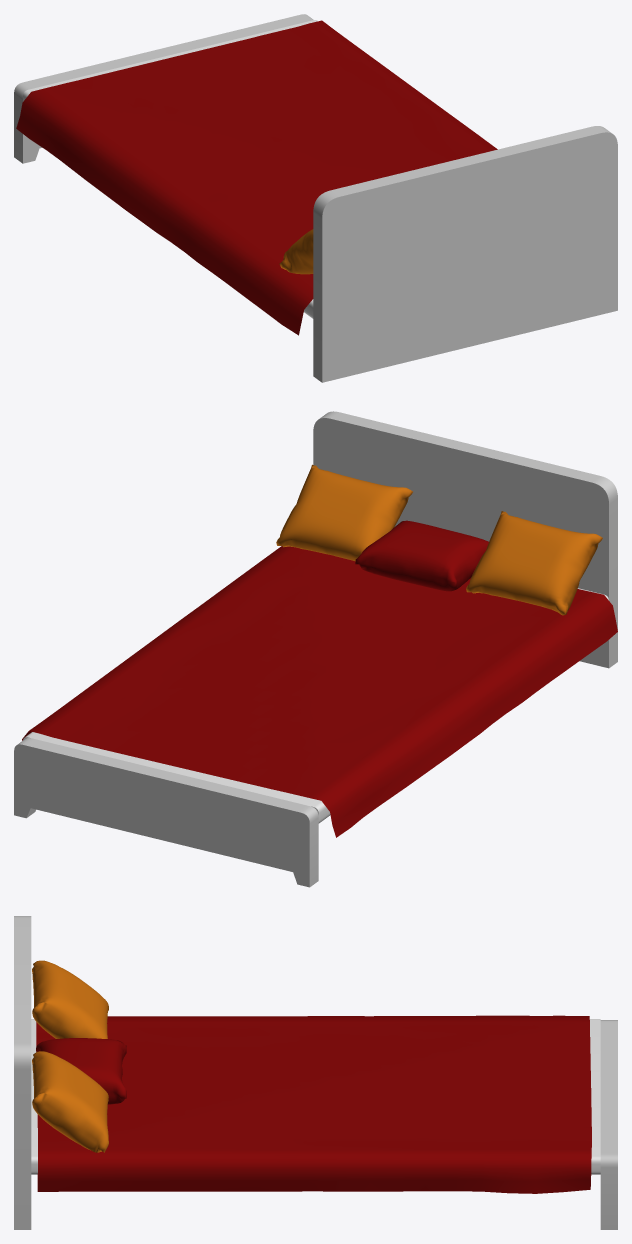
Rendered from bed.fbx.
3 renders of one model, top to bottom at view 1: azimuth 30°, elevation 25°; view 2: azimuth 150°, elevation 25°; view 3: azimuth 270°, elevation 25°, orthographic. The views are drawn at different scales.
Parts seen in each view (by area): view 1: Plane, plane2, plane3, plane1, p2; view 2: Plane, plane2, plane3, p2, p3, p1, plane1; view 3: Plane, plane2, p3, p2, plane3, p1, plane1.
Boxes of the visible parts, x1,y1,x2,y2 form: Plane: (16, 20, 497, 335); plane2: (313, 126, 617, 382); plane3: (14, 14, 313, 163); plane1: (23, 20, 317, 318); p2: (279, 229, 313, 274); Plane: (22, 546, 617, 837); plane2: (313, 411, 617, 668); plane3: (14, 738, 318, 887); p2: (466, 511, 602, 615); p3: (276, 464, 412, 561); p1: (355, 520, 488, 591); plane1: (23, 588, 608, 823); Plane: (36, 1015, 591, 1193); plane2: (14, 916, 31, 1229); p3: (32, 1051, 108, 1152); p2: (32, 960, 108, 1038); plane3: (600, 1020, 617, 1229); p1: (36, 1038, 126, 1104); plane1: (31, 1019, 600, 1174).
Bounding box in the file's own units: 183 × 100 × 307.
